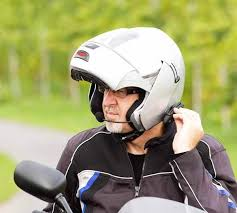com_capacete: (60, 20, 188, 145)
